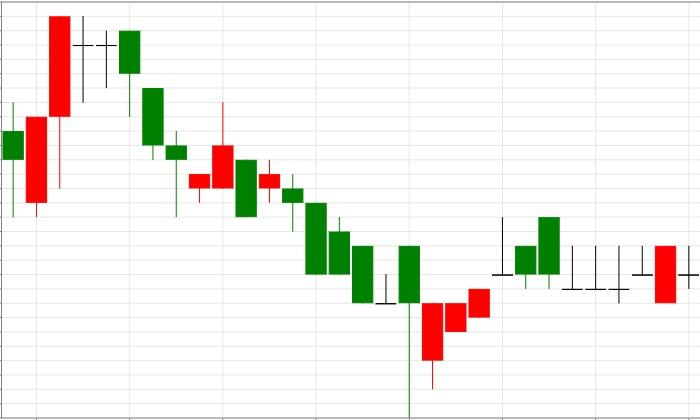hammer_rise: (48, 15, 421, 418)
